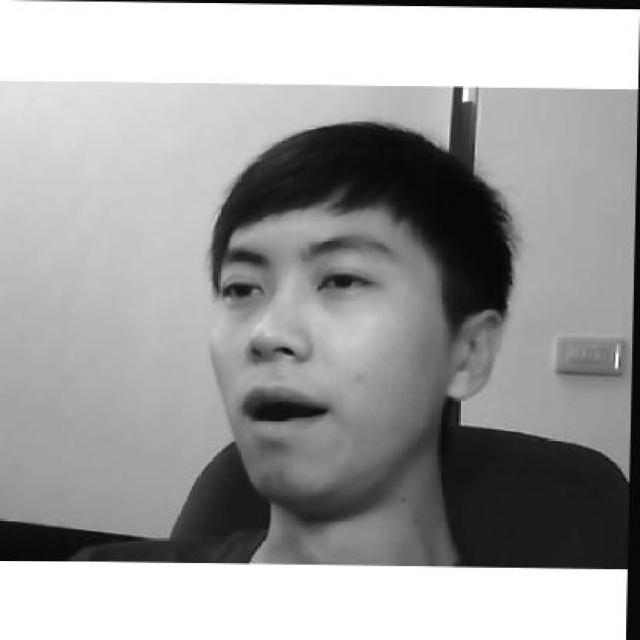inattentif: (211, 117, 507, 501)
